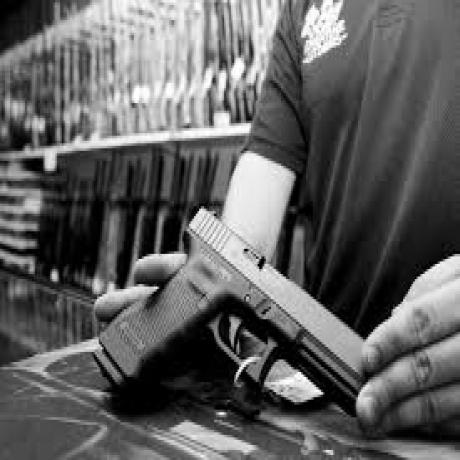Guns: (103, 205, 381, 407)
